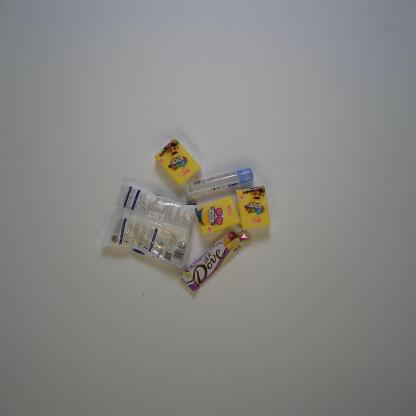Chocolate: (179, 224, 251, 292)
Seasoner: (100, 181, 198, 270)
Stationery: (187, 167, 254, 197)
Tissue: (154, 137, 201, 186), (194, 195, 241, 237), (236, 185, 271, 231)
